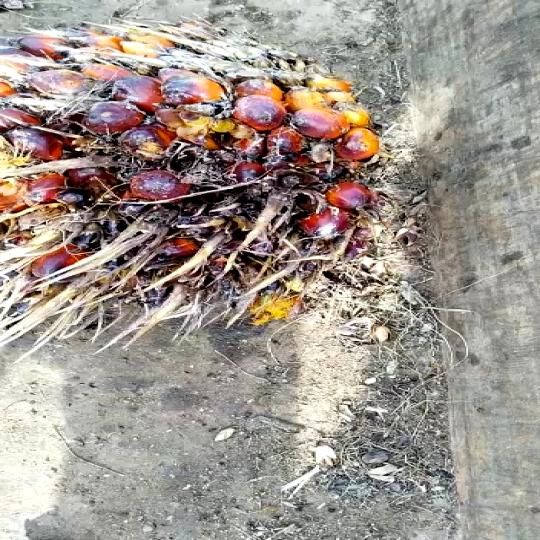terlalu masak: (0, 16, 413, 338)
